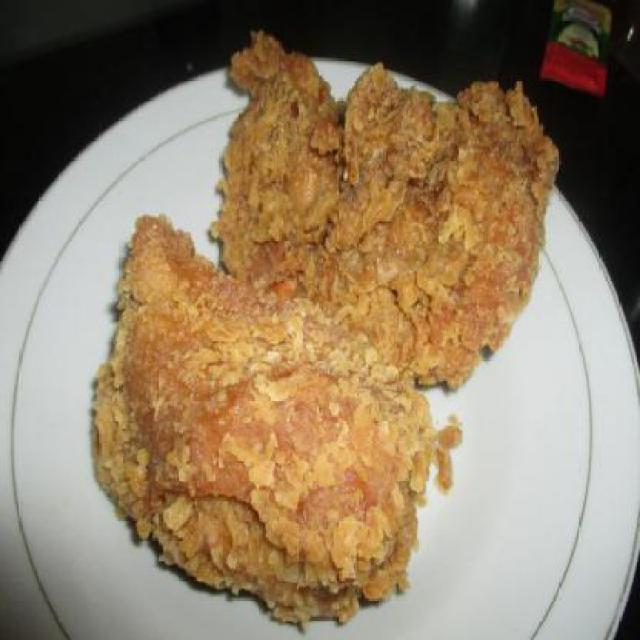Chicken -Fried Chicken-: (94, 31, 560, 624)
